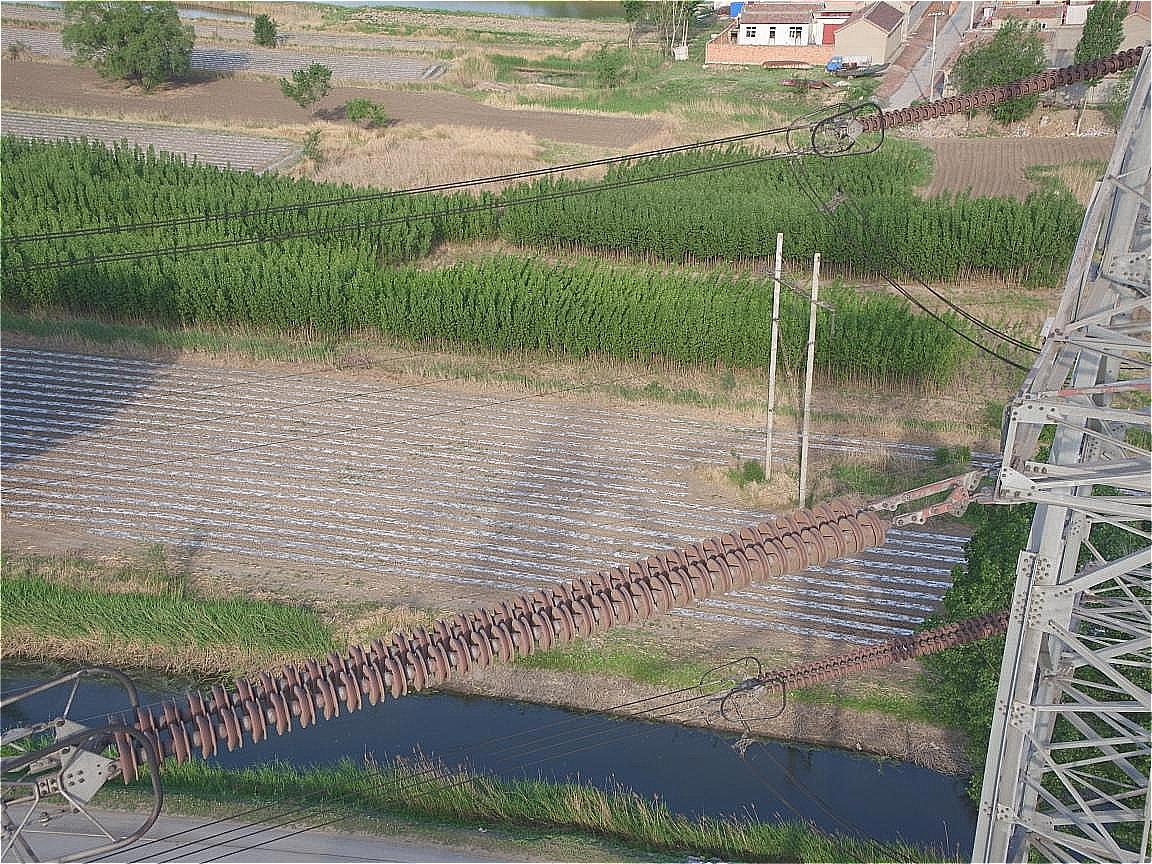insultor1: (736, 590, 1031, 711)
insultor2: (87, 476, 896, 787)
